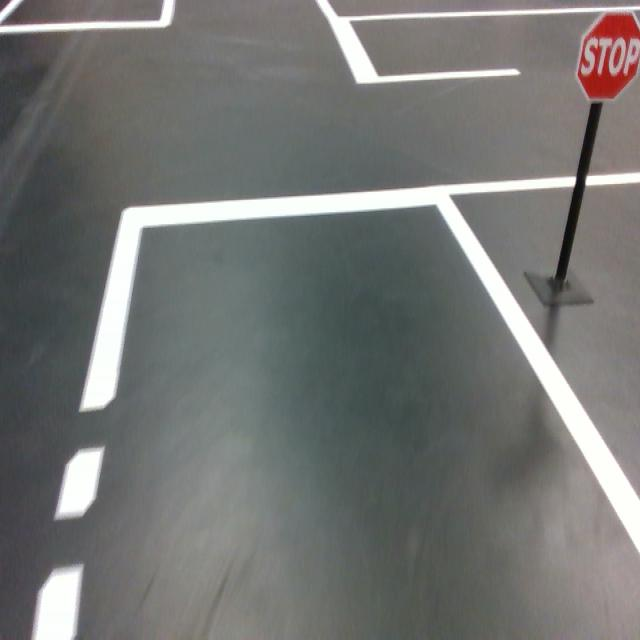stop-sign: (574, 10, 640, 104)
